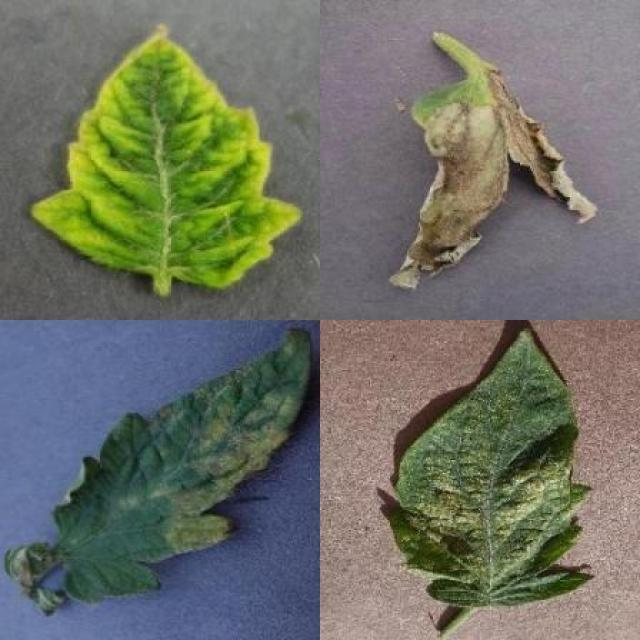Late Blight: (390, 78, 597, 296)
Leaf Mold: (56, 322, 313, 604)
Spider Mites: (394, 330, 596, 610)
Yellow Leaf Curl Virus: (31, 23, 299, 290)
